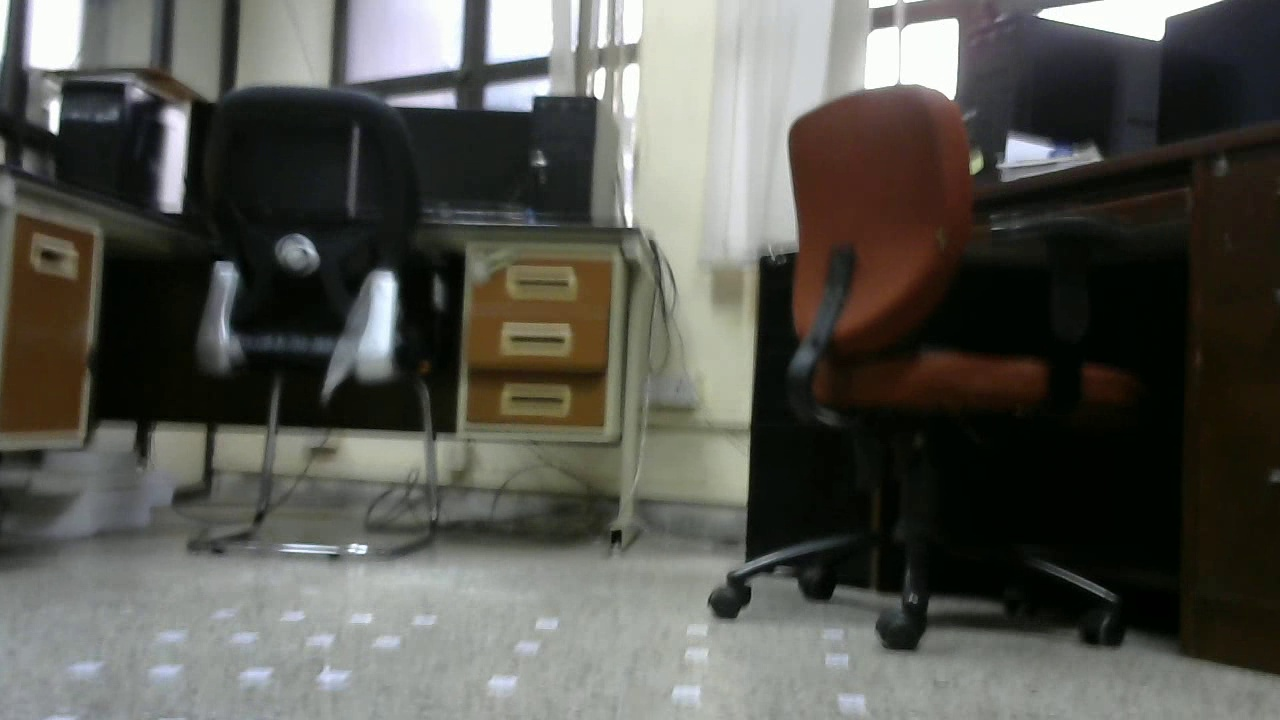chair: (704, 84, 1134, 655), (187, 86, 438, 557)
